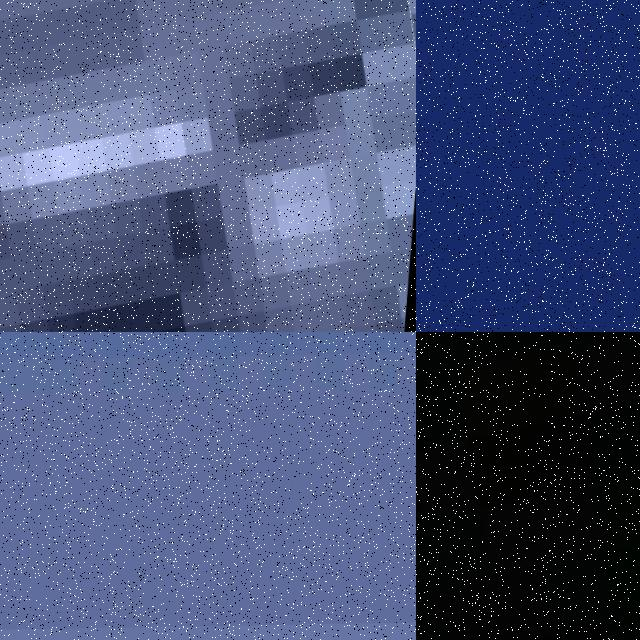drone: (0, 0, 416, 332), (416, 332, 640, 640)
